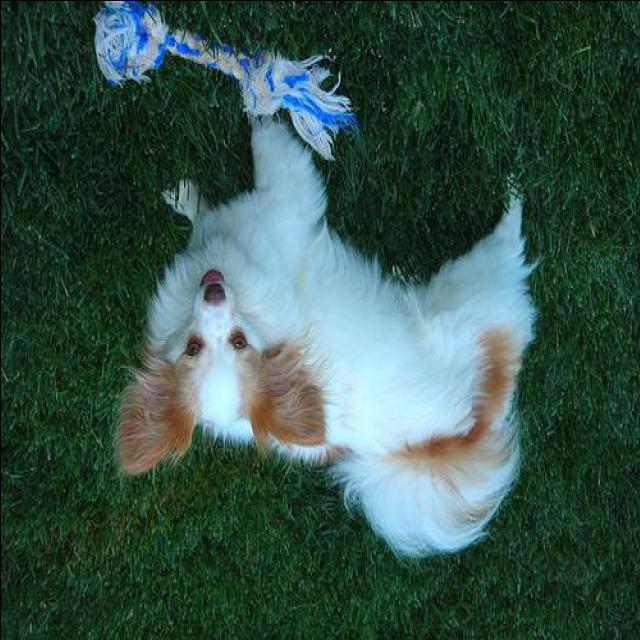papillon: (116, 118, 530, 556)
